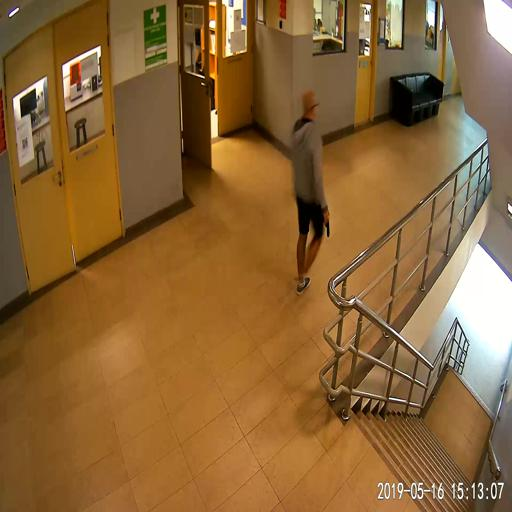pistol: (322, 209, 330, 236)
